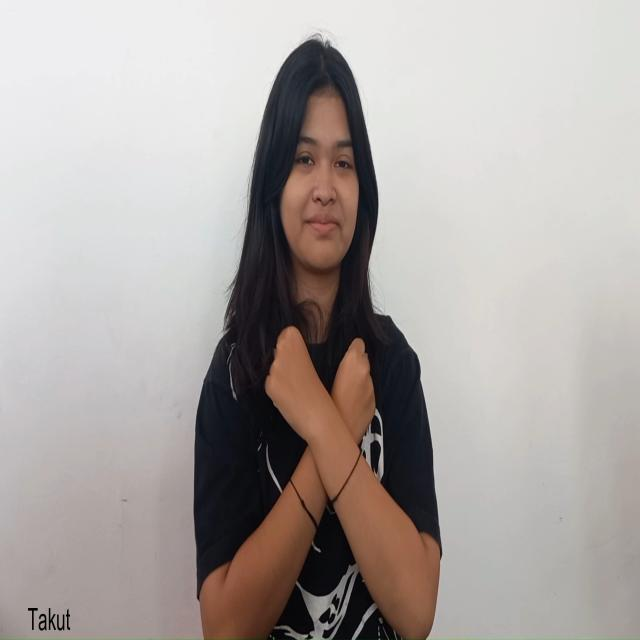Takut -BISINDO-: (262, 321, 378, 498)
